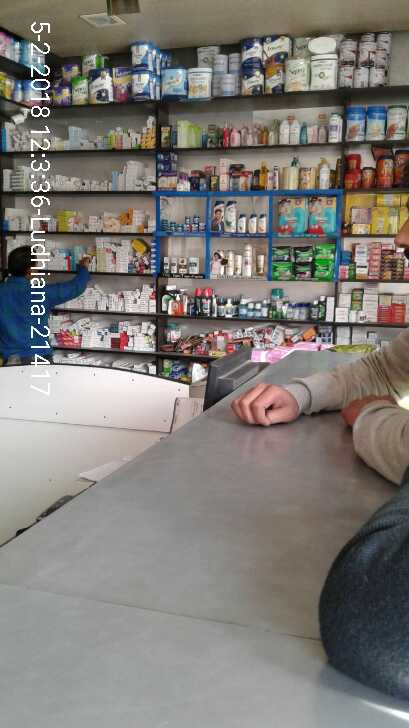vicks: (160, 208, 209, 232)
